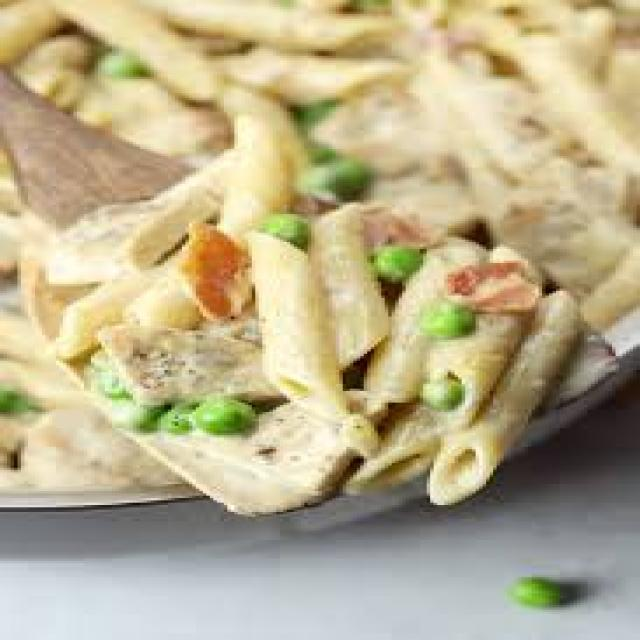organic waste: (39, 119, 458, 428), (0, 0, 637, 161), (339, 266, 574, 500), (280, 142, 636, 244), (133, 391, 367, 512), (0, 152, 77, 486), (504, 240, 636, 321), (46, 409, 172, 482), (507, 575, 560, 607)
